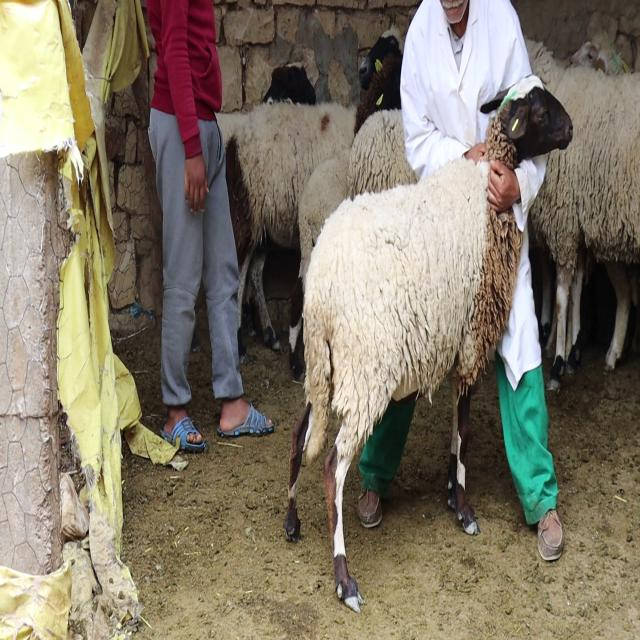Score_4: (284, 159, 522, 611), (481, 75, 573, 170)
